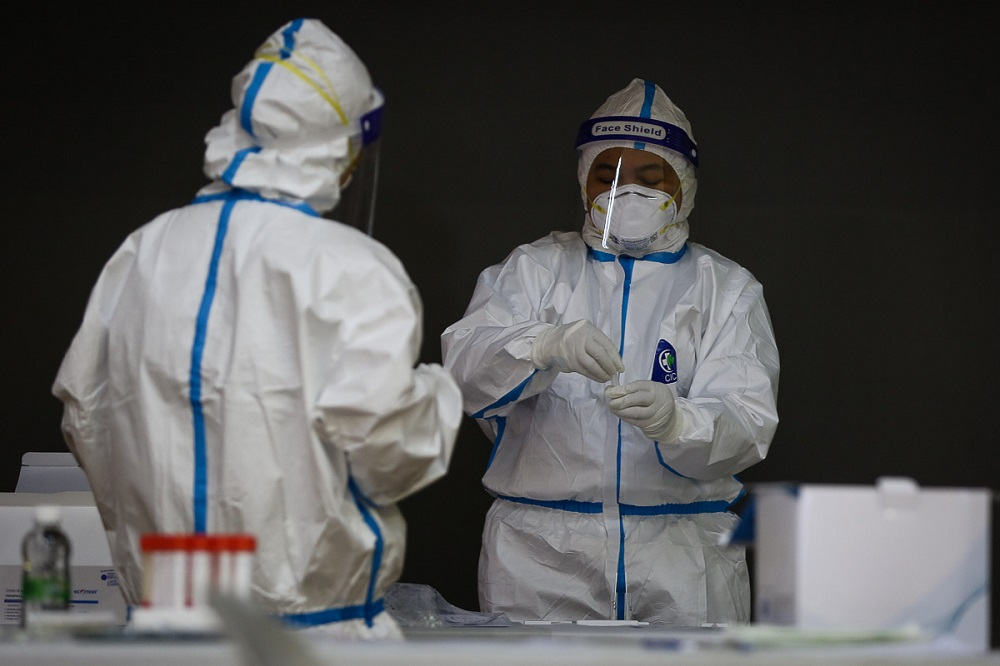Coverall: (50, 16, 447, 665), (443, 81, 781, 662)
Face_Shield: (566, 113, 709, 273), (344, 77, 393, 257)
Gloves: (531, 311, 629, 384), (597, 375, 683, 445)
with_mask: (593, 157, 676, 249)
